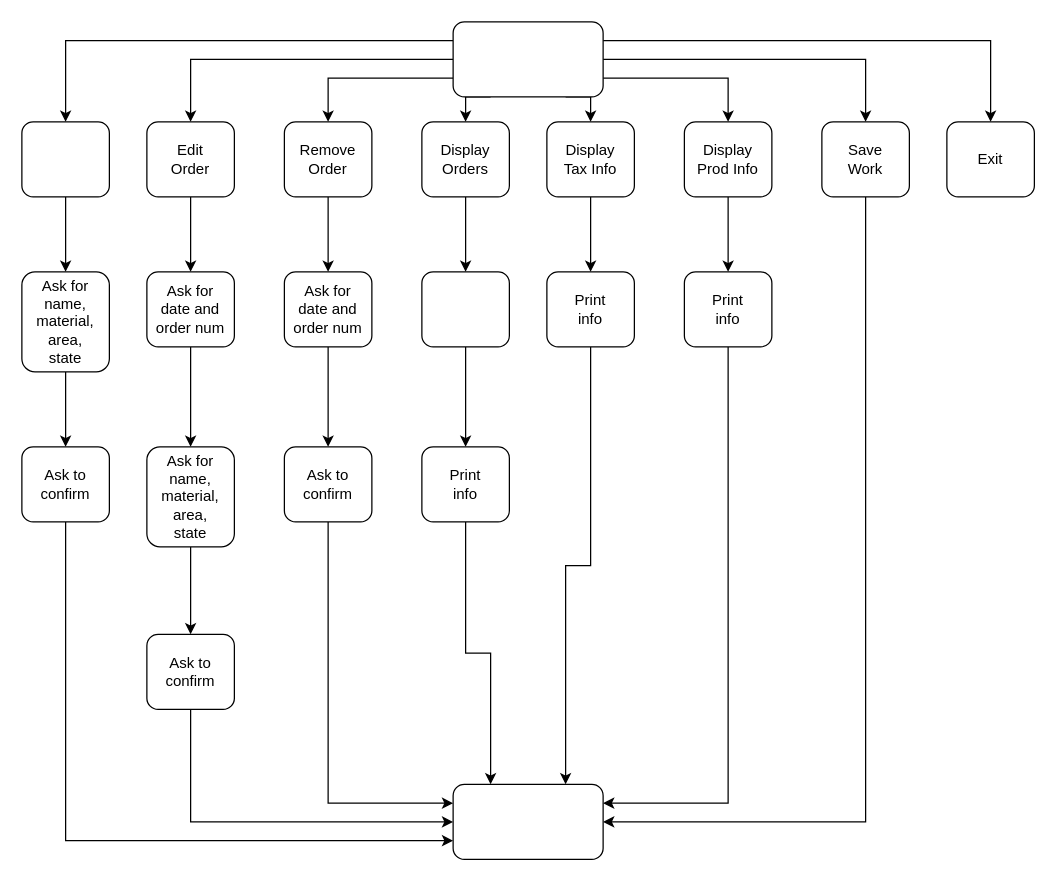
This 1056x881 diagram has some shape labels left out. The shapes that lost their labels are listed below. From the top down, each one's centre as x and y in pixels, then its label:
the point at 527,59: Start
the point at 65,159: Place Order
the point at 465,309: Ask for date
the point at 527,821: Return to start
